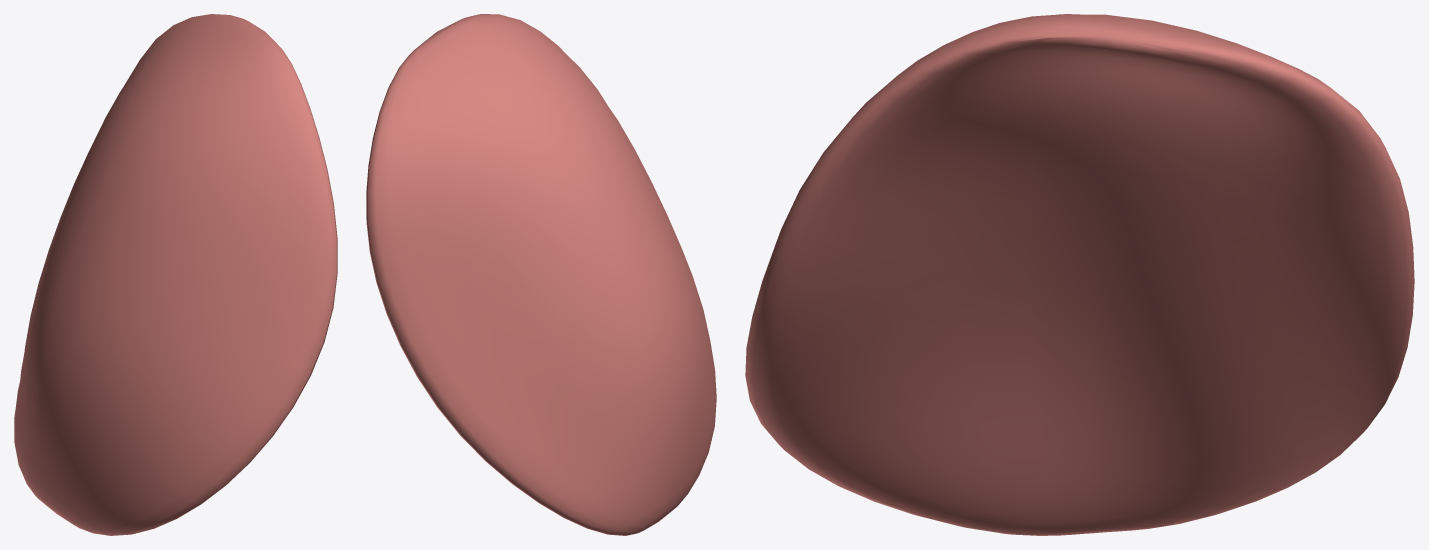
The picture shows the model from 3 angles, left to right: view 1: azimuth 30°, elevation 25°; view 2: azimuth 150°, elevation 25°; view 3: azimuth 270°, elevation 25°; orthographic projection. The views are drawn at different scales.
Parts seen in each view (by area): view 1: ZA_fd2828b766d715a1; view 2: ZA_fd2828b766d715a1; view 3: ZA_fd2828b766d715a1.
Boxes of the visible parts, left/top/right/bottom form: ZA_fd2828b766d715a1: left=14, top=14, right=337, bottom=535; ZA_fd2828b766d715a1: left=366, top=14, right=716, bottom=535; ZA_fd2828b766d715a1: left=745, top=14, right=1414, bottom=535.
Size of the model in its own units: 0.0117 by 0.0206 by 0.019.
